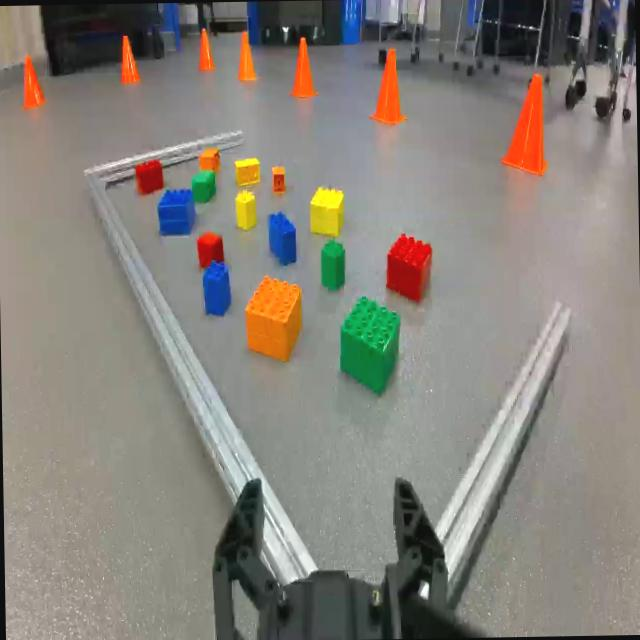block: (310, 186, 343, 235), (235, 187, 256, 228), (235, 156, 259, 184)
blue: (157, 188, 195, 233), (202, 259, 231, 314), (268, 210, 296, 263)
cone: (502, 72, 548, 173), (370, 47, 406, 122), (289, 35, 318, 95), (22, 53, 47, 106), (120, 33, 139, 81), (238, 29, 256, 78), (198, 27, 214, 69)
green: (340, 295, 400, 391), (321, 238, 345, 288), (191, 168, 215, 201)
metal barrier: (85, 130, 402, 581), (423, 300, 574, 607)
orange: (245, 275, 302, 360), (272, 165, 284, 191)
red goal: (386, 232, 433, 299), (135, 158, 163, 192), (197, 230, 223, 266)
